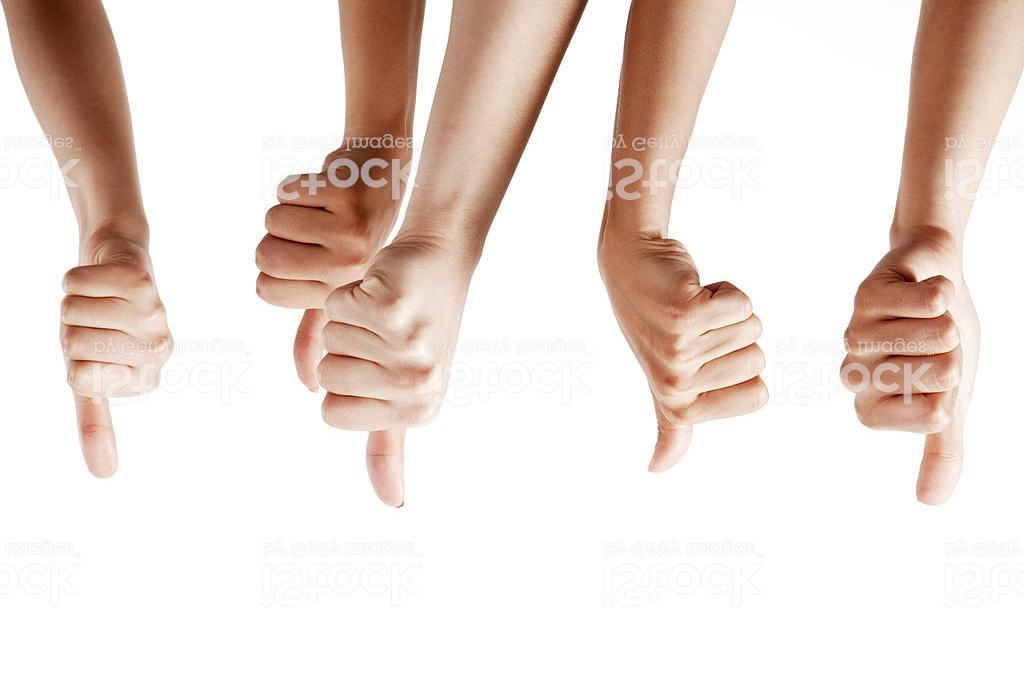thumbsdown: (835, 233, 984, 507), (313, 245, 460, 511), (625, 256, 773, 477), (58, 243, 177, 480), (251, 160, 341, 395)
